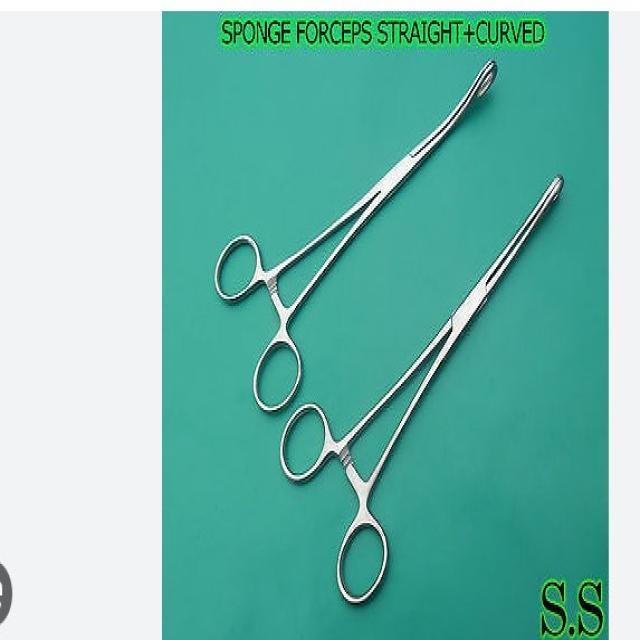Sponge Holding Forceps: (281, 168, 577, 604), (210, 51, 498, 414)
